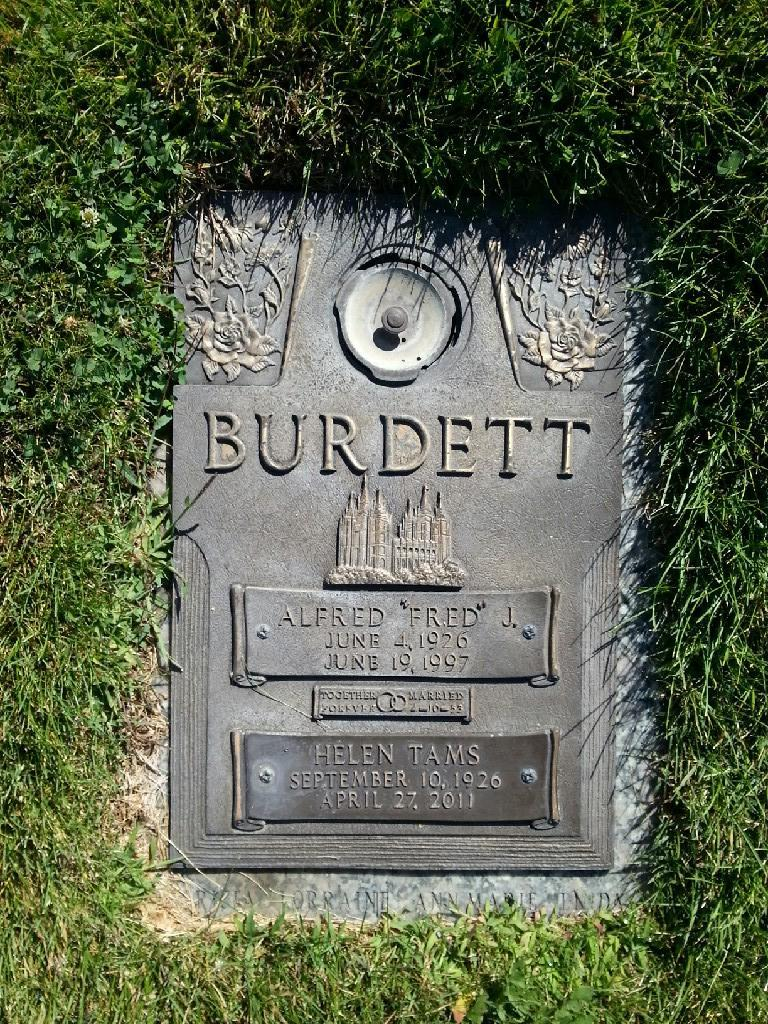flat: (159, 137, 631, 897)
